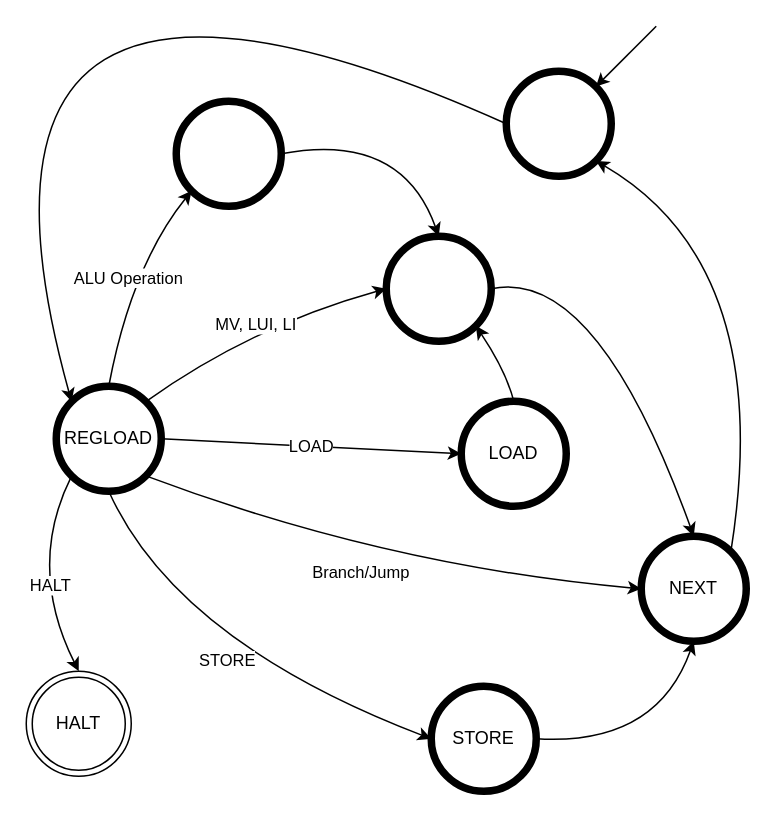
Some shapes in this 776 by 821 pixel diagram are drawn without their labels. Each missing label, with the centre of its shape:
"ALU" goes at point (228, 153).
"FETCH" goes at point (558, 123).
"REGSTR" goes at point (438, 288).
